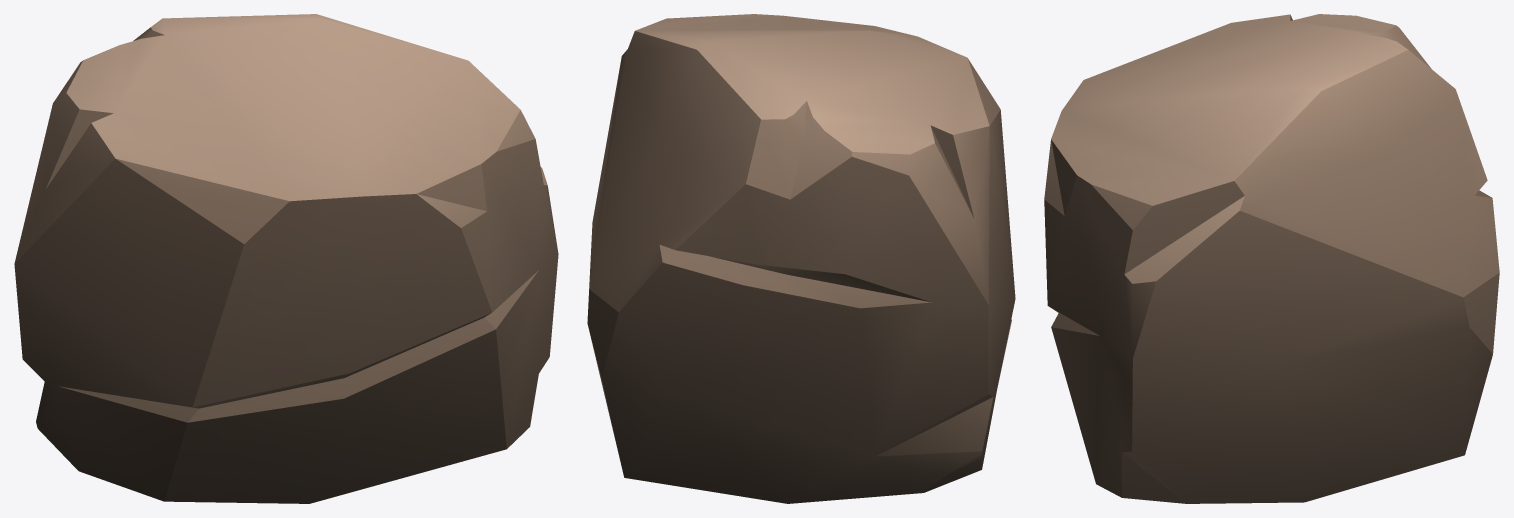
Rendered from Rock_Medium_1C.fbx.
3 renders of one model, left to right at view 1: azimuth 30°, elevation 25°; view 2: azimuth 150°, elevation 25°; view 3: azimuth 270°, elevation 25°, orthographic. The views are drawn at different scales.
Visible parts, largest first — view 1: Rock_Medium_1C; view 2: Rock_Medium_1C; view 3: Rock_Medium_1C.
Boxes of the visible parts, <box> form: Rock_Medium_1C: <box>14,14,558,503</box>; Rock_Medium_1C: <box>587,14,1015,503</box>; Rock_Medium_1C: <box>1044,14,1499,503</box>.
Size of the model in its own units: 206 by 192 by 189.
